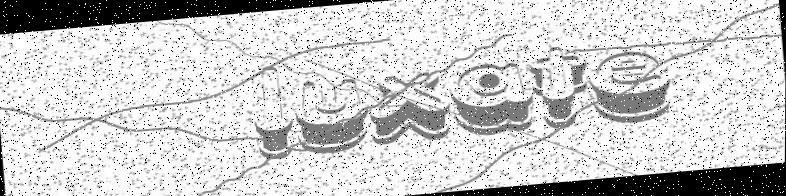a: (449, 55, 538, 135)
e: (588, 45, 677, 128)
l: (249, 61, 298, 157)
t: (529, 43, 593, 133)
u: (291, 69, 369, 156)
x: (366, 64, 455, 146)
